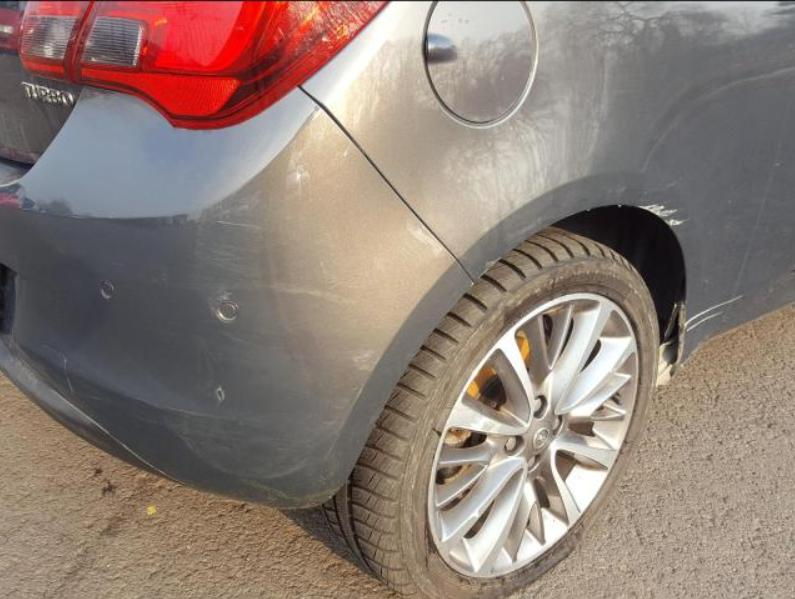Back-bumper: (0, 86, 476, 512)
Back-wheel: (277, 228, 660, 598)
Quarter-panel: (303, 0, 793, 332)
Rocker-panel: (675, 282, 794, 368)
Tail-light: (19, 0, 388, 130)
Trunk: (1, 1, 82, 166)
